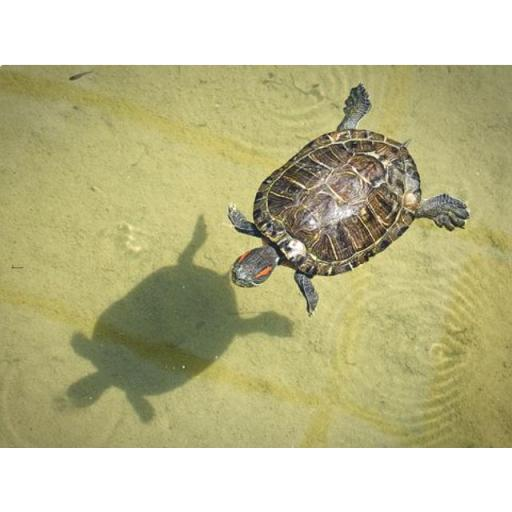turtle: (227, 83, 471, 317)
